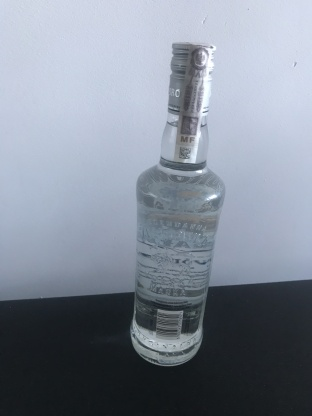nakretka: (165, 34, 217, 117)
